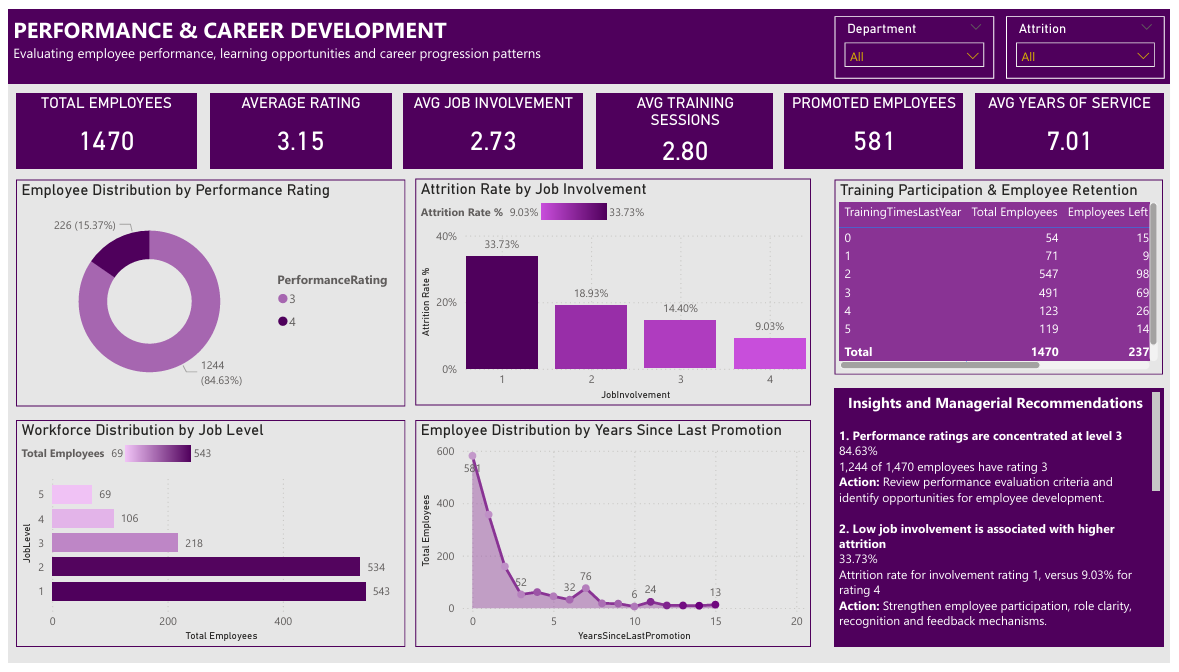

This screenshot's page, from the dashboard's own definition file:
{"tool":"powerbi","page":{"name":"04 - Performance & Career Development","canvas":[1280,720],"ordinal":3},"visuals":[{"type":"card","title":"TOTAL EMPLOYEES","fields":{"Values":["HR_Analytics_Cleaned.Total Employees"]},"box":[8.5,92.3,198.5,82.3],"z":0},{"type":"card","title":"AVG TRAINING SESSIONS","fields":{"Values":["Avg(HR_Analytics_Cleaned.TrainingTimesLastYear)"]},"box":[647.7,92.3,195.4,82.3],"z":1000},{"type":"card","title":"AVERAGE RATING","fields":{"Values":["Avg(HR_Analytics_Cleaned.Average Performance Rating)"]},"box":[221.5,92.3,200,82.3],"z":2000},{"type":"card","title":"AVG JOB INVOLVEMENT","fields":{"Values":["Avg(HR_Analytics_Cleaned.JobInvolvement)"]},"box":[435.4,92.3,197.7,82.3],"z":3000},{"type":"card","title":"PROMOTED EMPLOYEES","fields":{"Values":["HR_Analytics_Cleaned.Employees Promoted in Last 5 Years"]},"box":[855.4,92.3,196.2,82.3],"z":4000},{"type":"card","title":"AVG YEARS OF SERVICE","fields":{"Values":["Avg(HR_Analytics_Cleaned.YearsAtCompany)"]},"box":[1065,92,208,83],"z":5000},{"type":"textbox","box":[0,0,1280,82],"z":6000},{"type":"clusteredBarChart","title":"Workforce Distribution by Job Level","fields":{"Category":["HR_Analytics_Cleaned.JobLevel"],"Y":["HR_Analytics_Cleaned.Total Employees"]},"box":[8.3,451.7,428.3,250],"z":7000},{"type":"slicer","fields":{"Values":["HR_Analytics_Cleaned.Attrition"]},"box":[1098.6,7.1,175.7,68.6],"z":8000},{"type":"slicer","fields":{"Values":["HR_Analytics_Cleaned.Department"]},"box":[910,7.1,175.7,68.6],"z":9000},{"type":"clusteredColumnChart","title":"Attrition Rate by Job Involvement","fields":{"Category":["HR_Analytics_Cleaned.JobInvolvement"],"Y":["HR_Analytics_Cleaned.Attrition Rate %"]},"box":[448,186,436,250],"z":10000},{"type":"textbox","box":[910,416.7,363.3,285],"z":11000},{"type":"areaChart","title":"Employee Distribution by Years Since Last Promotion","fields":{"Category":["HR_Analytics_Cleaned.YearsSinceLastPromotion"],"Y":["HR_Analytics_Cleaned.Total Employees"]},"box":[448,452,436,250],"z":12000},{"type":"pivotTable","title":"Training Participation & Employee Retention","fields":{"Values":["HR_Analytics_Cleaned.Total Employees","HR_Analytics_Cleaned.Employees Left","HR_Analytics_Cleaned.Attrition Rate %"],"Rows":["HR_Analytics_Cleaned.TrainingTimesLastYear"]},"box":[910,186.7,361.7,215],"z":13000},{"type":"donutChart","title":"Employee Distribution by Performance Rating","fields":{"Category":["HR_Analytics_Cleaned.PerformanceRating"],"Y":["HR_Analytics_Cleaned.Total Employees"]},"box":[8.3,186.7,428.3,250],"z":14000}]}

Visuals, with their boxes in screenshot pixels (x1, y1, x2, y2), scaled from the page's 1280x720 canvas onto the 1179x672 screenshot:
"TOTAL EMPLOYEES" card: (8, 86, 191, 163)
"AVG TRAINING SESSIONS" card: (597, 86, 777, 163)
"AVERAGE RATING" card: (204, 86, 388, 163)
"AVG JOB INVOLVEMENT" card: (401, 86, 583, 163)
"PROMOTED EMPLOYEES" card: (788, 86, 969, 163)
"AVG YEARS OF SERVICE" card: (981, 86, 1173, 163)
textbox: (0, 0, 1178, 77)
"Workforce Distribution by Job Level" clusteredBarChart: (8, 422, 402, 655)
slicer - HR_Analytics_Cleaned.Attrition: (1012, 7, 1174, 71)
slicer - HR_Analytics_Cleaned.Department: (838, 7, 1000, 71)
"Attrition Rate by Job Involvement" clusteredColumnChart: (413, 174, 814, 407)
textbox: (838, 389, 1173, 655)
"Employee Distribution by Years Since Last Promotion" areaChart: (413, 422, 814, 655)
"Training Participation & Employee Retention" pivotTable: (838, 174, 1171, 375)
"Employee Distribution by Performance Rating" donutChart: (8, 174, 402, 408)
